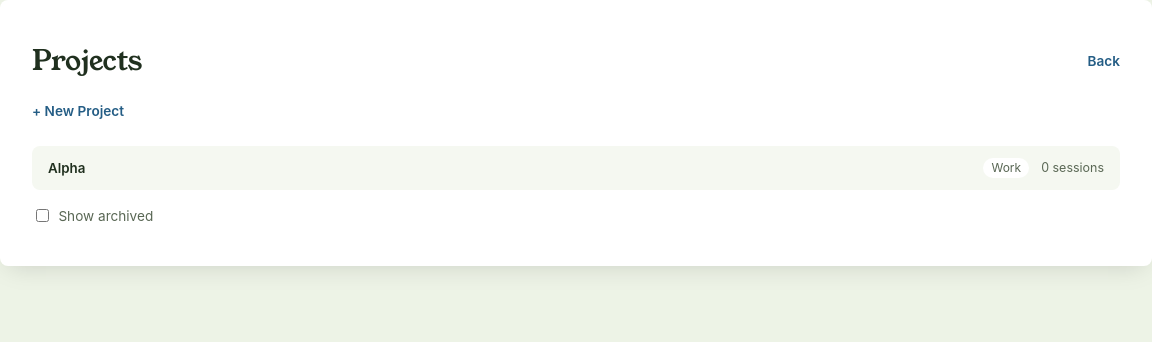
Projects › lists only active projects by default, revealing archived ones via the toggle
The image size is (1152, 342).
expect the text "Alpha" is shown: met, box [48,160,85,176]
expect the text "Beta" is not shown: met
Click the checkbox labelled "Show archived": (42,216) [36,210,49,222]
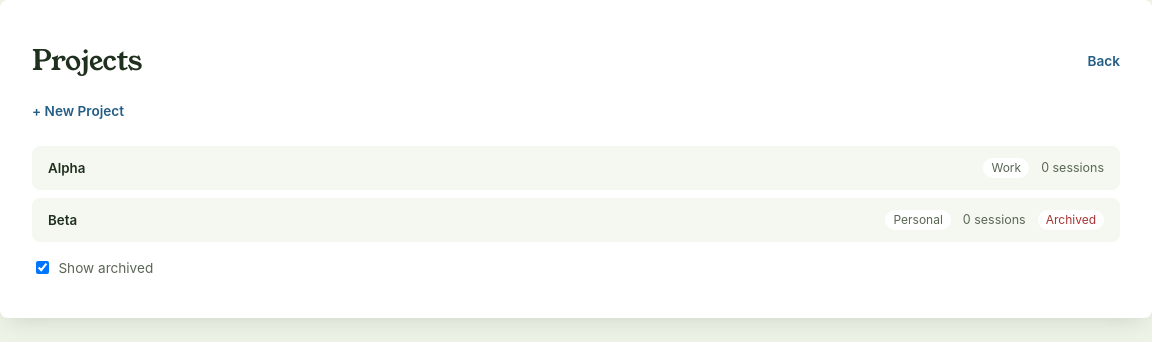
expect the text "Alpha" is shown: met, box [48,160,85,176]
expect the text "Beta" is shown: met, box [48,212,77,228]
expect the text "Archived" is shown: met, box [1038,210,1104,230]
